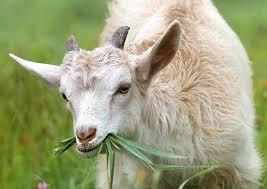Sheep: (0, 15, 203, 160)
